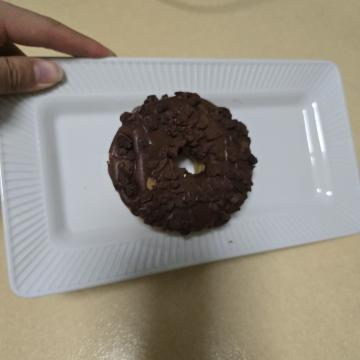doughnut: (81, 94, 250, 264)
